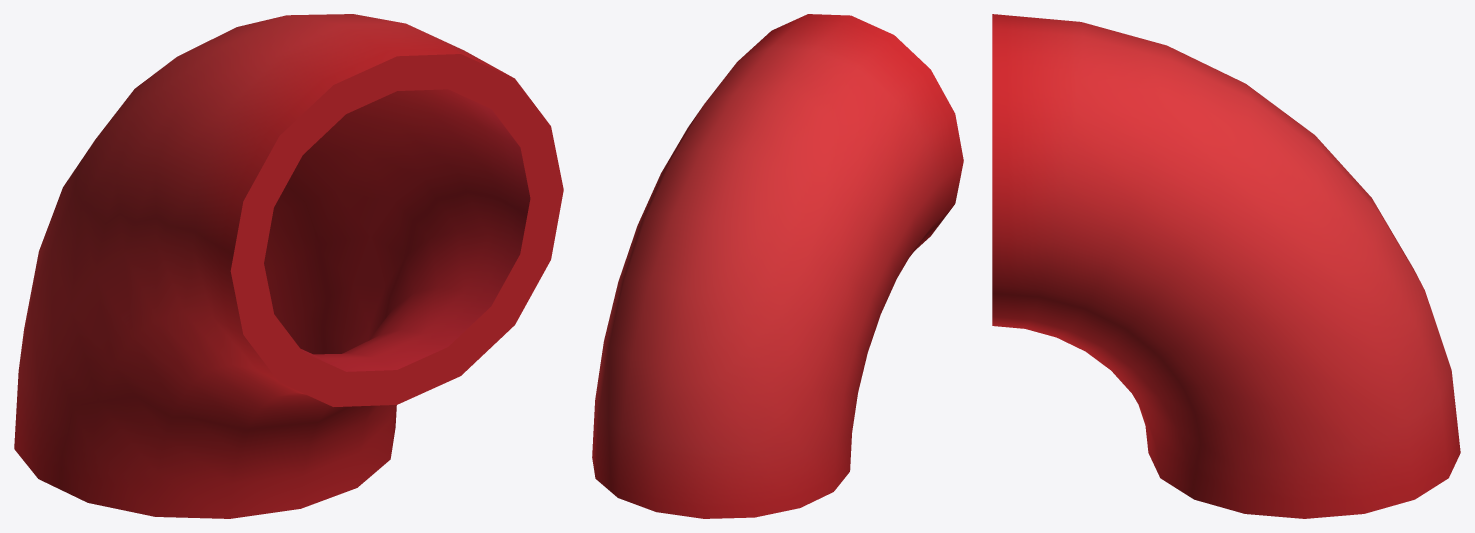
The model's file is pipe_90_A_red.glb.
3 views of the same model, side by side, from view 1: azimuth 30°, elevation 25°; view 2: azimuth 150°, elevation 25°; view 3: azimuth 270°, elevation 25° (orthographic). The views are drawn at different scales.
Parts seen in each view (by area): view 1: pipe_90_A_red; view 2: pipe_90_A_red; view 3: pipe_90_A_red.
Boxes of the visible parts, x1,y1,x2,y2 form: pipe_90_A_red: [14, 14, 563, 518]; pipe_90_A_red: [592, 14, 963, 518]; pipe_90_A_red: [992, 14, 1460, 518].
Size of the model in its own units: 2 by 3 by 3.
Materials: 1 (1 with a texture image).
